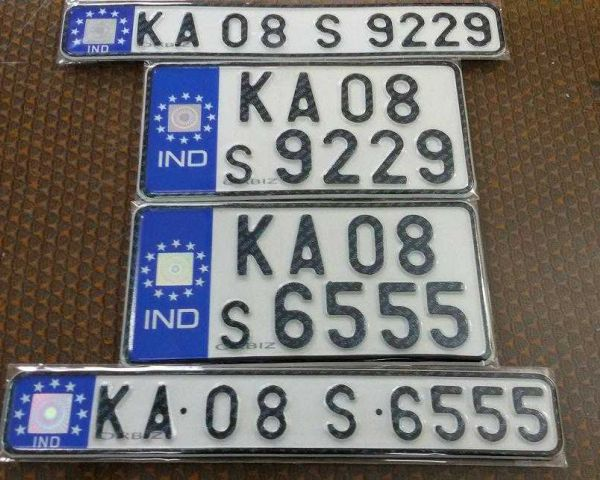inlp: (109, 198, 508, 372), (1, 362, 577, 465), (120, 59, 481, 203), (54, 3, 518, 63)
